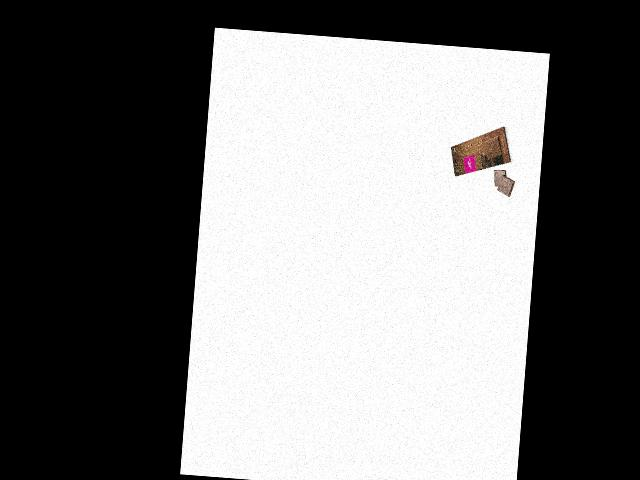chocolate: (447, 122, 514, 181)
